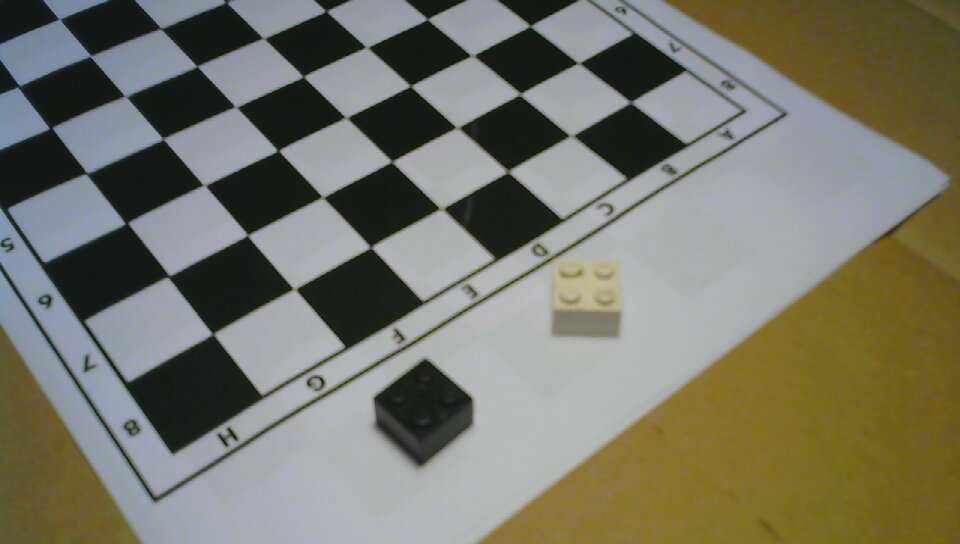bp: (372, 356, 474, 467)
wp: (551, 256, 622, 337)
